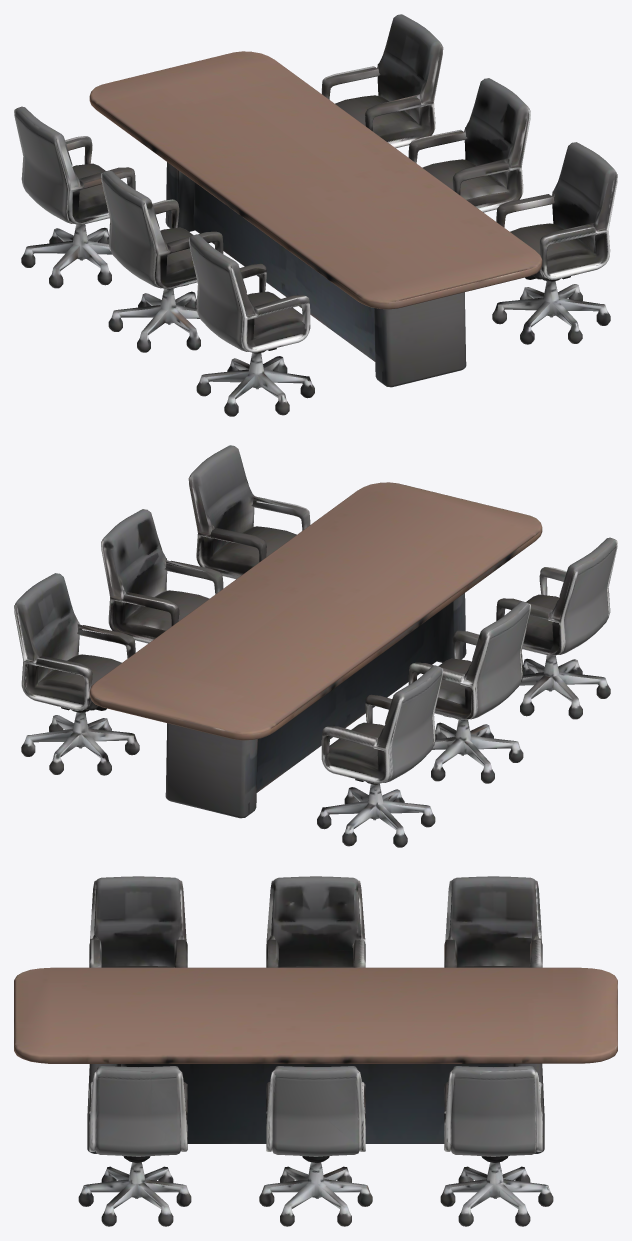
Rendered from Furniture__conference_table_realistic_style_fdb45f1f_v2.cluster.glb.
The picture shows the model from 3 angles, top to bottom: view 1: azimuth 30°, elevation 25°; view 2: azimuth 150°, elevation 25°; view 3: azimuth 270°, elevation 25°; orthographic projection.
Visible parts, largest first — view 1: texture_pbr_20250901; view 2: texture_pbr_20250901; view 3: texture_pbr_20250901.
Boxes of the visible parts, left/top/right/bottom form: texture_pbr_20250901: left=14, top=14, right=617, bottom=416; texture_pbr_20250901: left=14, top=445, right=617, bottom=847; texture_pbr_20250901: left=14, top=876, right=617, bottom=1226.
Size of the model in its own units: 1.46 by 0.5624 by 1.89.
Materials: 1 (1 with a texture image).
